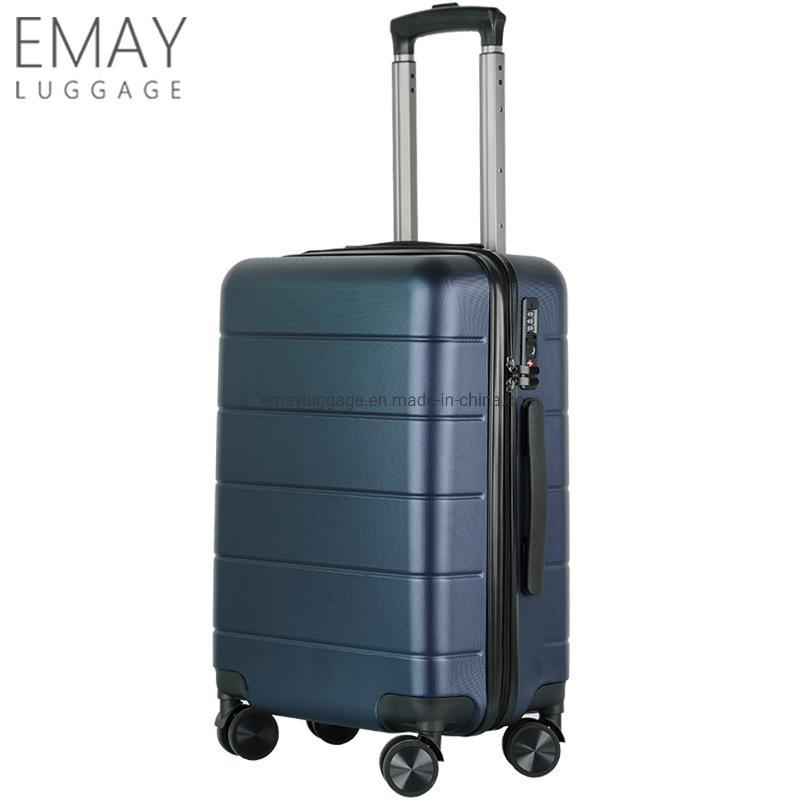suitcase: (202, 234, 580, 737)
